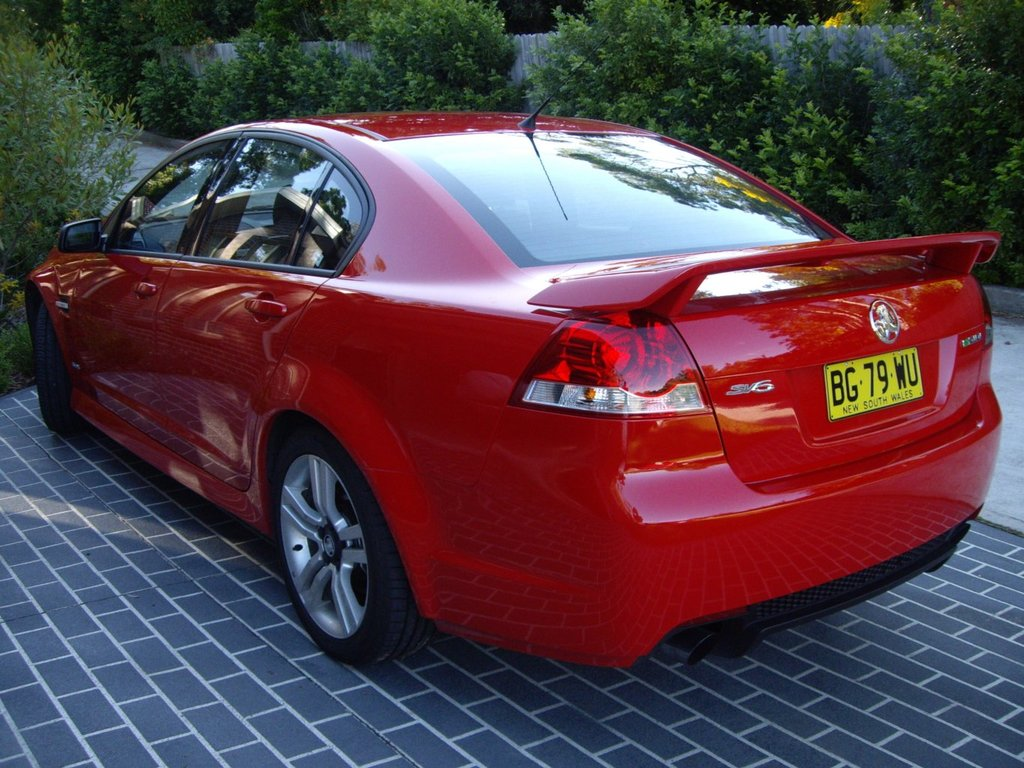Car: (24, 36, 1002, 669)
